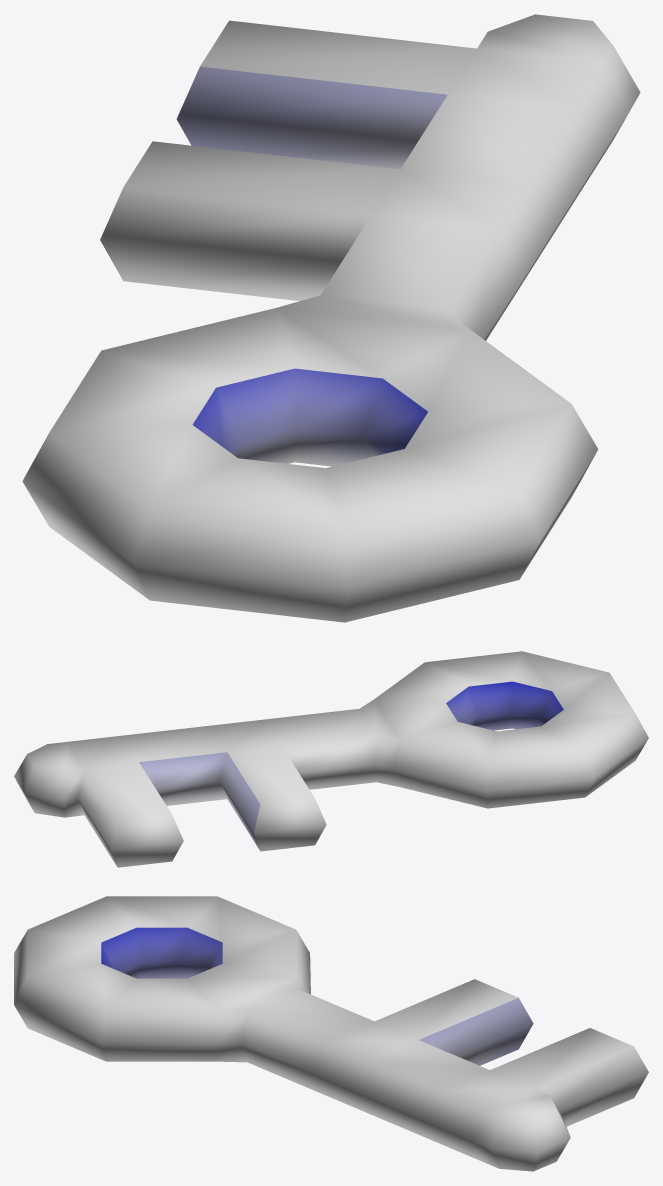
File: key (2).fbx
3 renders of one model, top to bottom at view 1: azimuth 30°, elevation 25°; view 2: azimuth 150°, elevation 25°; view 3: azimuth 270°, elevation 25°, orthographic. The views are drawn at different scales.
Parts seen in each view (by area): view 1: key; view 2: key; view 3: key.
Boxes of the visible parts, x1,y1,x2,y2 form: key: (22,14,640,622); key: (14,651,648,867); key: (14,896,648,1171).
Size of the model in its own units: 56.96 by 5.85 by 64.98.
